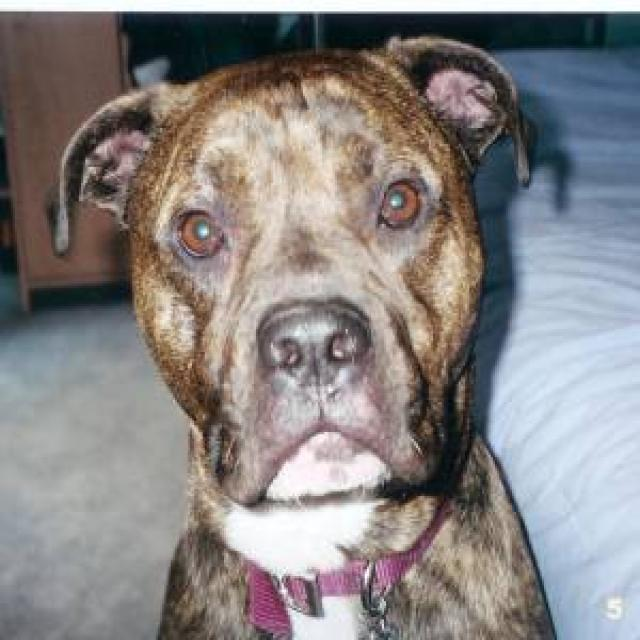dog-american_pit_bull_terrier: (47, 30, 561, 635)
